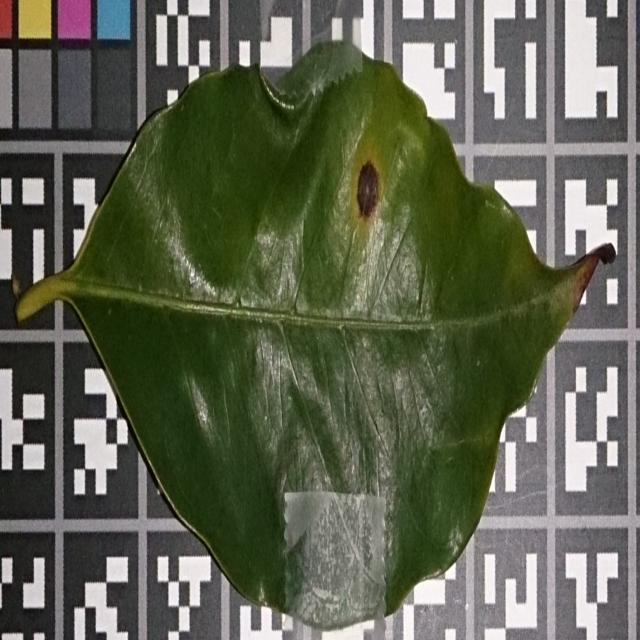Enfermedad-Mancha-de-hierro: (14, 42, 617, 633)
